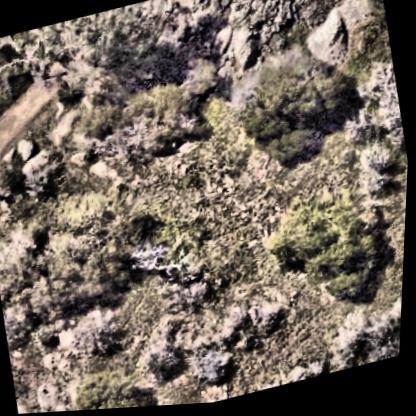tree-top: (268, 179, 396, 323), (12, 0, 171, 112), (49, 186, 176, 323), (235, 53, 369, 173), (143, 286, 289, 387), (106, 75, 205, 185), (335, 70, 413, 201), (52, 357, 156, 413), (71, 298, 135, 368), (358, 299, 405, 369)
